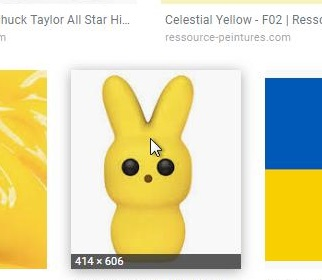cursor: (148, 136, 162, 157)
